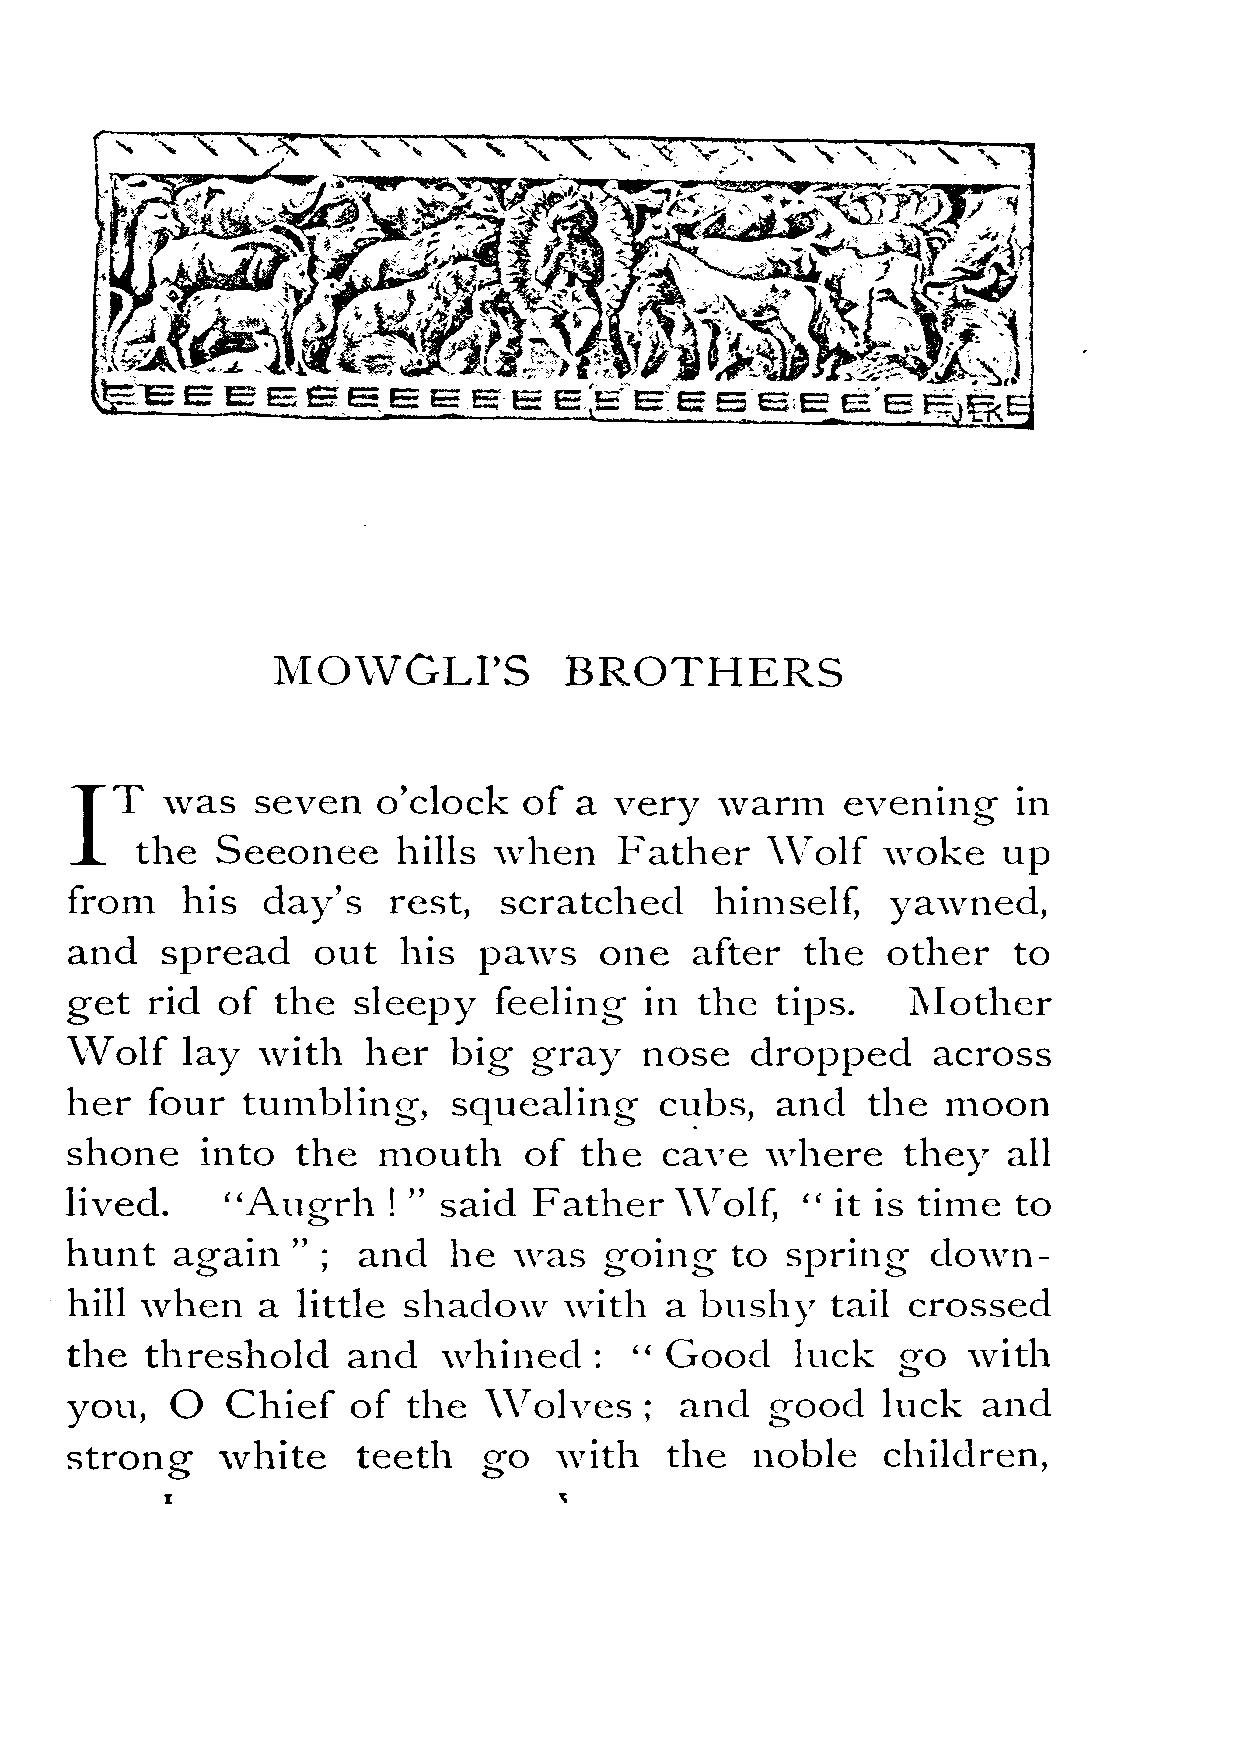chapter: (271, 651, 841, 692)
content: (64, 776, 1053, 1480)
content_pagenumber: (552, 1490, 570, 1512)
